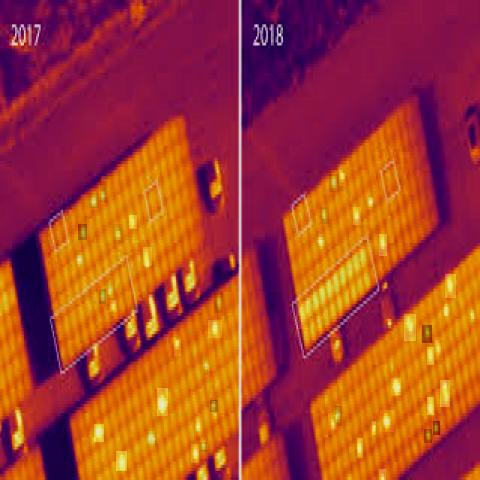fault: (296, 301, 308, 329), (404, 314, 416, 341), (157, 388, 168, 416), (380, 410, 394, 432), (440, 299, 452, 324), (440, 380, 450, 407), (445, 274, 456, 298), (208, 320, 222, 338), (314, 231, 326, 251), (116, 451, 127, 472), (364, 192, 376, 210), (434, 337, 443, 360), (113, 224, 123, 244), (214, 292, 223, 313), (94, 424, 104, 442), (391, 378, 401, 396), (422, 325, 432, 343), (329, 174, 339, 192), (380, 234, 388, 256), (76, 251, 85, 270), (143, 247, 152, 266), (320, 207, 329, 224), (191, 444, 199, 463), (147, 432, 157, 447), (89, 193, 99, 208), (339, 165, 346, 186), (78, 224, 87, 240), (353, 207, 361, 225), (335, 406, 342, 426), (107, 278, 115, 295), (328, 415, 337, 430), (100, 183, 107, 202), (468, 311, 476, 327), (195, 418, 202, 436), (174, 338, 181, 356), (427, 397, 434, 415), (427, 347, 434, 365), (357, 438, 363, 458), (424, 430, 432, 444), (129, 215, 137, 229), (99, 289, 106, 304), (433, 421, 440, 435), (210, 400, 218, 412), (109, 300, 117, 312), (379, 469, 386, 480), (200, 442, 207, 452), (204, 360, 208, 376), (372, 421, 376, 435)
